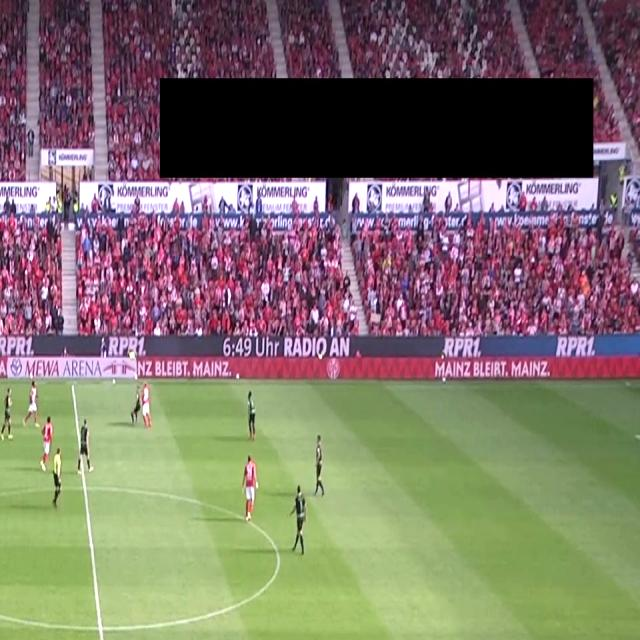referee: (44, 442, 72, 514)
soccer-player: (240, 451, 267, 526), (306, 430, 330, 500), (38, 414, 63, 474), (128, 377, 156, 429), (73, 414, 96, 477), (243, 387, 267, 445), (0, 384, 17, 444), (26, 376, 44, 426)
